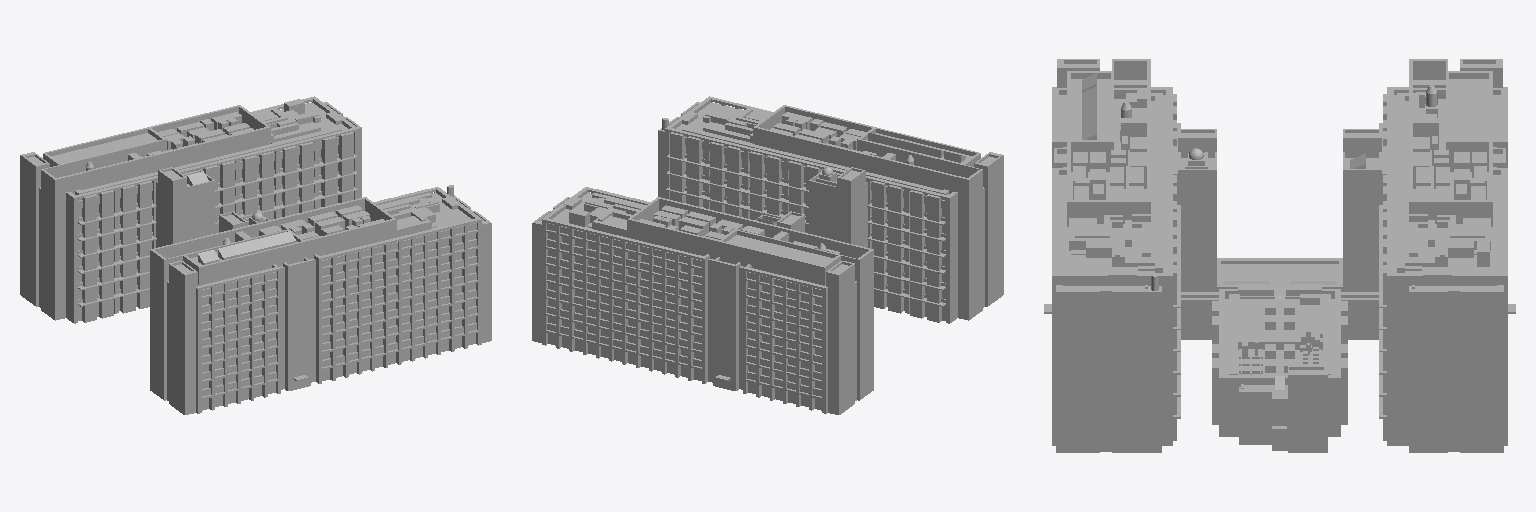
URDF robot description (root):
<?xml version='1.0' encoding='utf-8'?>
<robot name="root">
  <link name="link_001">
    <visual>
      <origin xyz="0 0 0" rpy="0 0 0" />
      <geometry>
        <mesh filename="ec2b9ef557f13fc02f951c9966be9d3084ba5094ae1da5aaca007a8ba069065d_scale_000.stl" scale="1.0000E+00 1.0000E+00 1.0000E+00" />
      </geometry>
      <material name="">
        <color rgba="7.50E-01 7.50E-01 7.50E-01 1" />
      </material>
    </visual>
    <collision>
      <origin xyz="0 0 0" rpy="0 0 0" />
      <geometry>
        <mesh filename="ec2b9ef557f13fc02f951c9966be9d3084ba5094ae1da5aaca007a8ba069065d_scale_000.stl" scale="1.0000E+00 1.0000E+00 1.0000E+00" />
      </geometry>
    </collision>
  </link>
</robot>

--- Facts derived from the render (not from the file) ---
The picture shows the robot from 3 angles, left to right: view 1: azimuth 30°, elevation 25°; view 2: azimuth 150°, elevation 25°; view 3: azimuth 270°, elevation 25°; orthographic projection.
Model root with 1 links and 0 joints (none), rooted at link_001, posed all joints at 0.
Links seen in each view (by area): view 1: link_001; view 2: link_001; view 3: link_001.
Boxes of the visible links, x1,y1,x2,y2 form: link_001: [20, 96, 491, 414]; link_001: [532, 96, 1003, 414]; link_001: [1044, 59, 1515, 452].
Size in the robot's own frame: 0.12 by 0.1167 by 0.0536 metres.
1 mesh visuals loaded from 1 distinct referenced files (1 binary STL).
